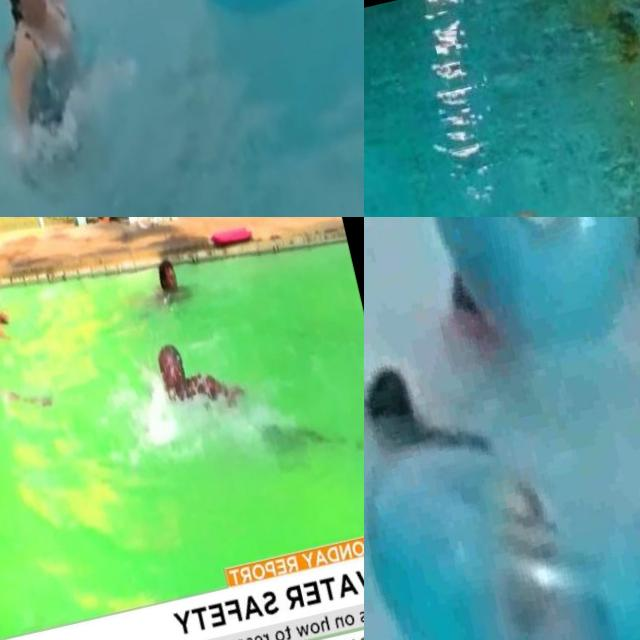drowning: (0, 0, 140, 196), (364, 303, 507, 494), (134, 328, 243, 446)
swimming: (142, 240, 199, 312), (0, 280, 14, 347)
